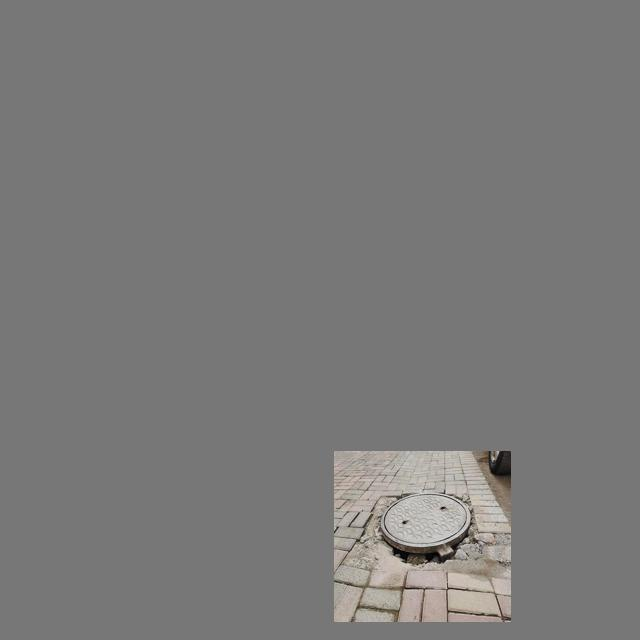circle: (345, 492, 495, 570)
